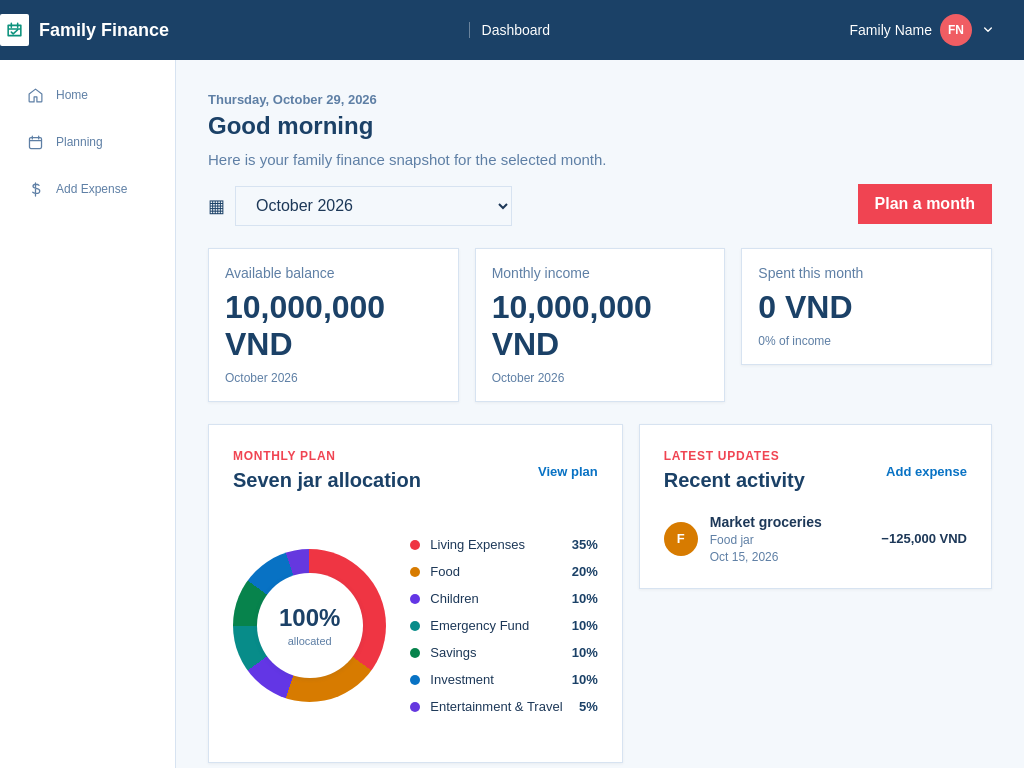
Test: DashboardPageComponent › loads the selected plan when the month selector changes
This screenshot has width=1024, height=768.
Select "September 2026" in the dropdown with id "dashboard-month" at (374, 206), box top-left (235, 186), bottom-right (512, 226)
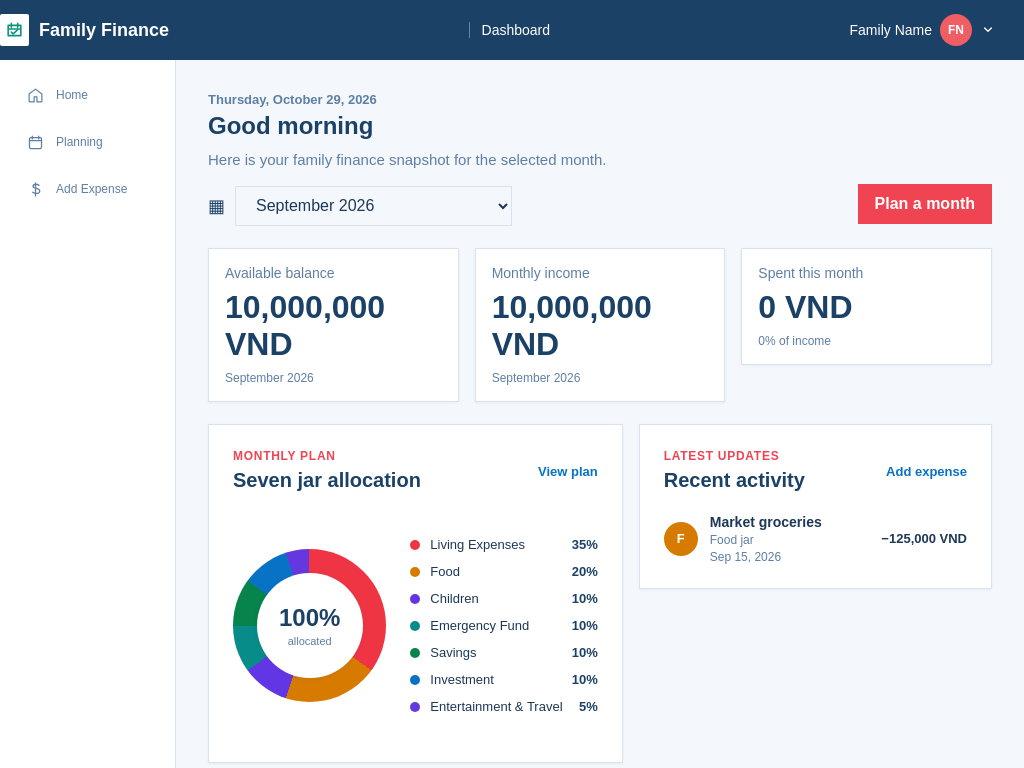
Check: the text "September 2026" is shown, box top-left (225, 370), bottom-right (314, 384)
